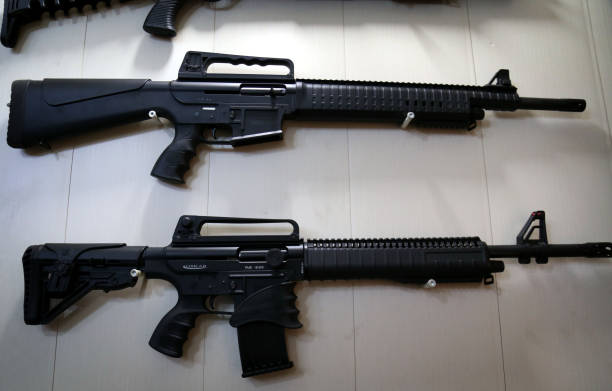rifle: (10, 206, 612, 380), (7, 51, 594, 200)
